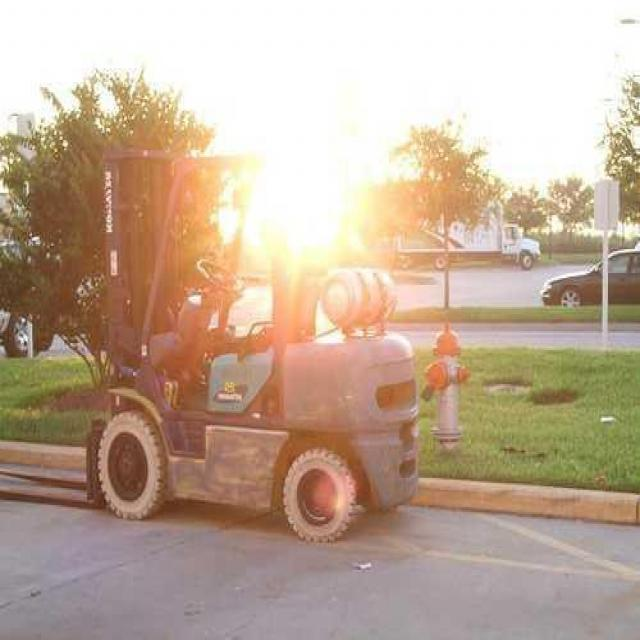Chariot elevateur: (0, 145, 420, 546)
